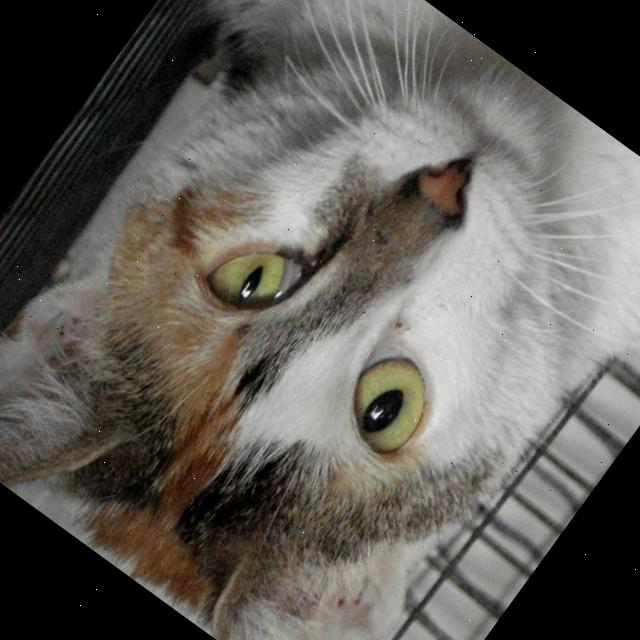cat-eye: (182, 176, 360, 357)
cat-eye-normal: (306, 302, 488, 493)
